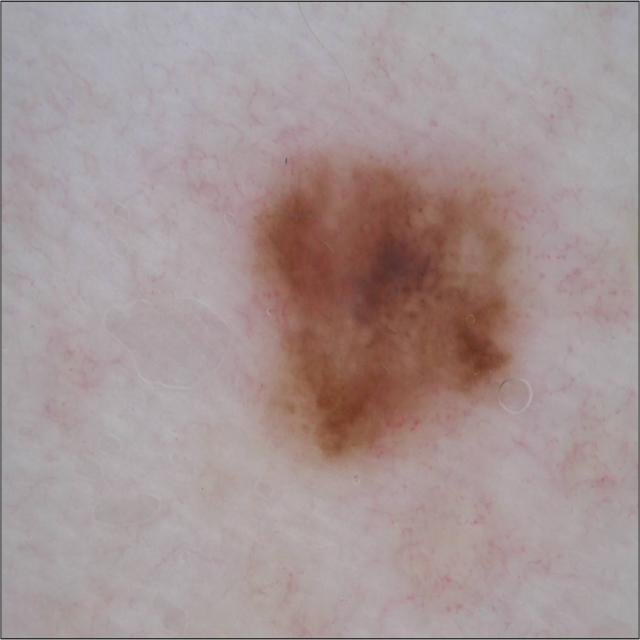Benign: (248, 146, 523, 472)
